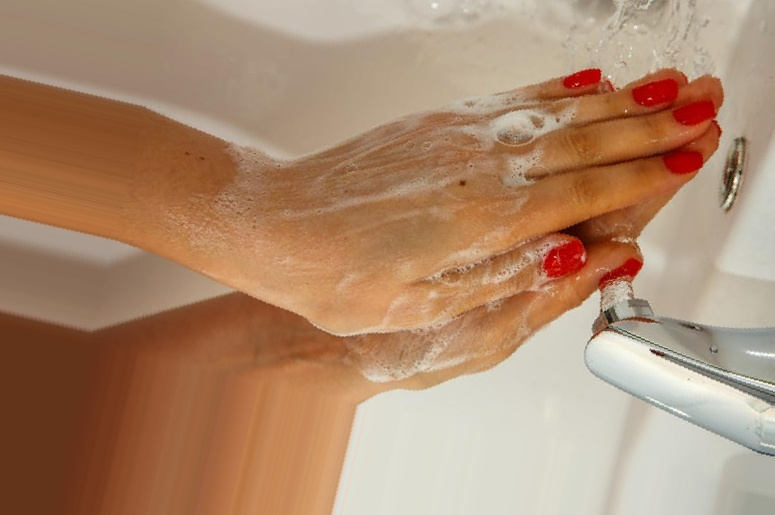washing hand: (220, 0, 774, 446)
